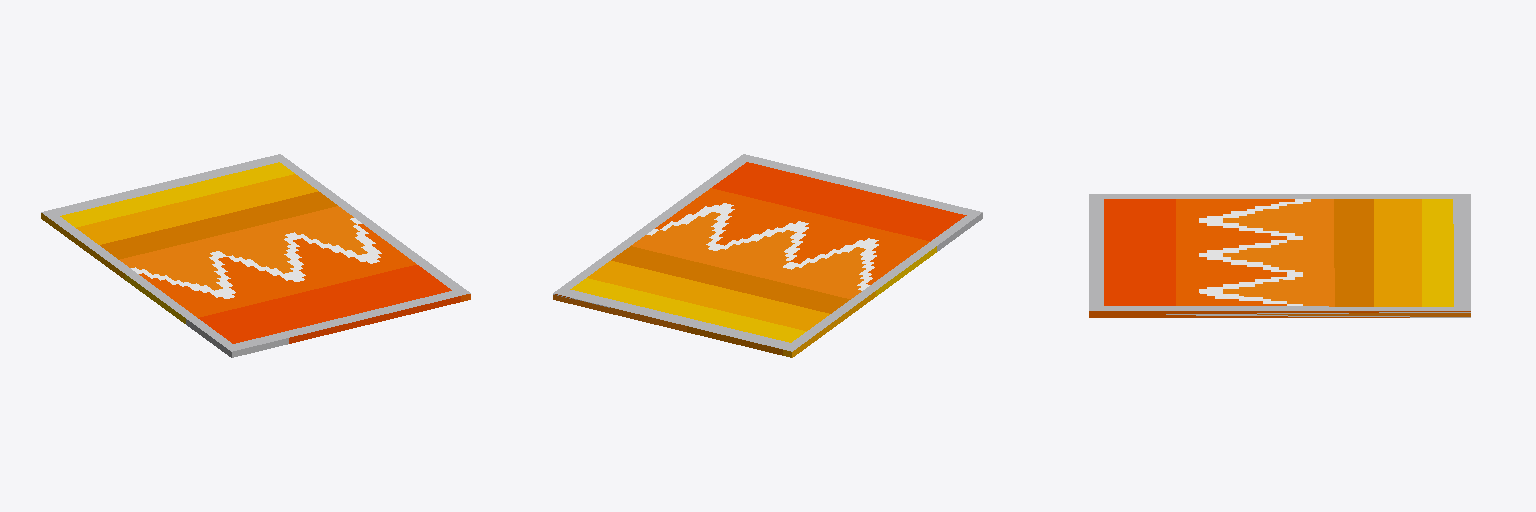
3 views of the same model, side by side, from view 1: azimuth 30°, elevation 25°; view 2: azimuth 150°, elevation 25°; view 3: azimuth 270°, elevation 25° (orthographic).
Visible parts, largest first — view 1: Cube_Cube.001; view 2: Cube_Cube.001; view 3: Cube_Cube.001.
Boxes of the visible parts, box(x1,y1,x2,y2) form: Cube_Cube.001: box(41, 154, 470, 357); Cube_Cube.001: box(553, 154, 982, 357); Cube_Cube.001: box(1089, 194, 1470, 317).
Bounding box in the file's own units: 4.95 × 0.1255 × 6.83.
Materials: 1 (1 with a texture image).